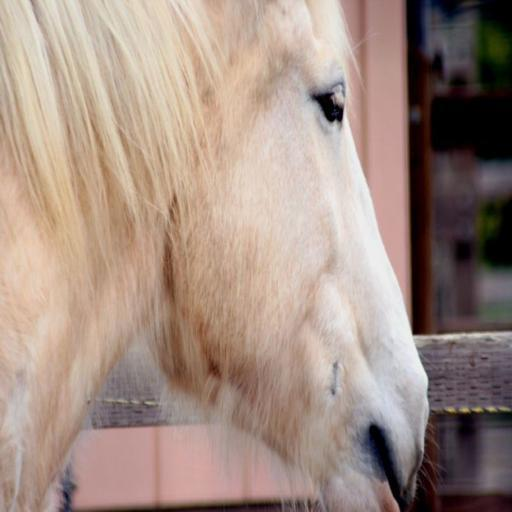horse: (0, 0, 447, 511)
